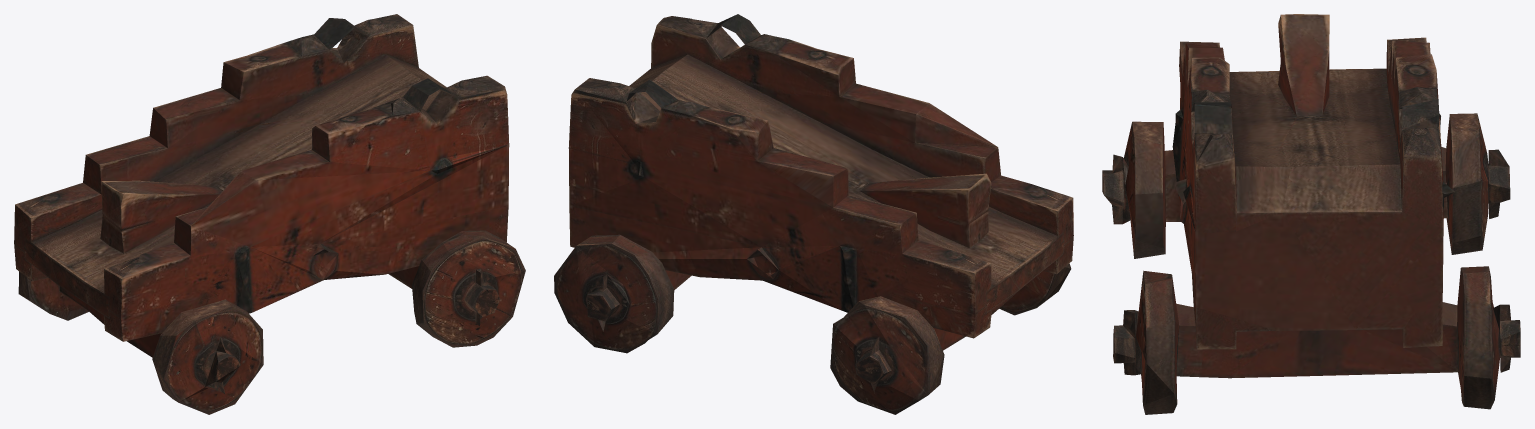
File: carriage.glb
3 views of the same model, side by side, from view 1: azimuth 30°, elevation 25°; view 2: azimuth 150°, elevation 25°; view 3: azimuth 270°, elevation 25° (orthographic). The views are drawn at different scales.
Visible parts, largest first — view 1: Mesh_0; view 2: Mesh_0; view 3: Mesh_0.
Part boxes in pixels (bbox=[...]): Mesh_0: bbox=[14, 14, 525, 414]; Mesh_0: bbox=[554, 14, 1073, 414]; Mesh_0: bbox=[1102, 14, 1520, 414].
Bounding box in the file's own units: 1.6 × 0.9366 × 1.2.
1 material, 1 textured.
